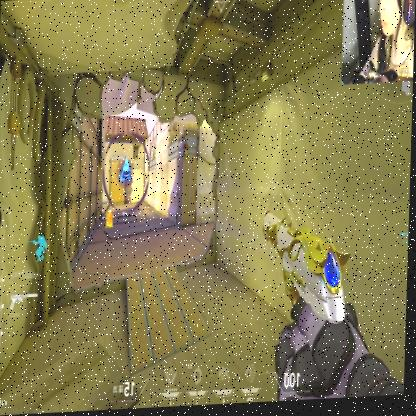streamer: (359, 0, 416, 87)
